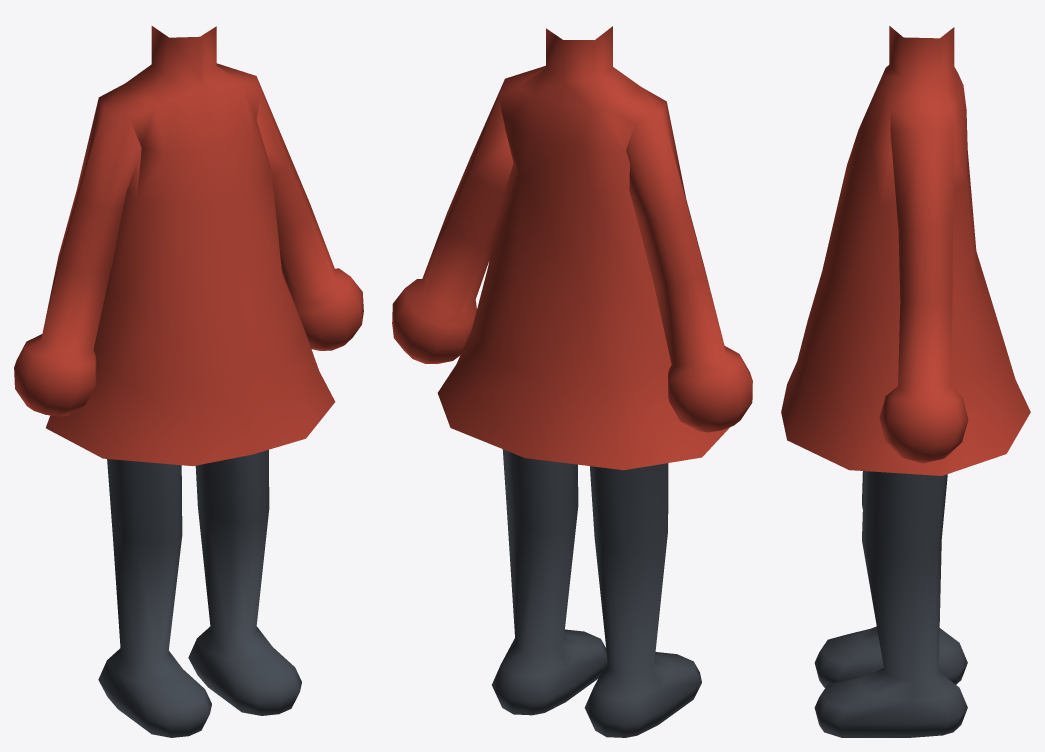
Rendered from Female1.gltf.
3 views of the same model, side by side, from view 1: azimuth 30°, elevation 25°; view 2: azimuth 150°, elevation 25°; view 3: azimuth 270°, elevation 25° (orthographic). The views are drawn at different scales.
Visible parts, largest first — view 1: シャツ.001_Mesh_0002.rip_mesh0000.011, ズボン.001_Mesh_0002.rip_mesh0000.001, ズボン.001_Mesh_0002.rip_mesh0000.010; view 2: シャツ.001_Mesh_0002.rip_mesh0000.011, ズボン.001_Mesh_0002.rip_mesh0000.001, ズボン.001_Mesh_0002.rip_mesh0000.010; view 3: シャツ.001_Mesh_0002.rip_mesh0000.011, ズボン.001_Mesh_0002.rip_mesh0000.010, ズボン.001_Mesh_0002.rip_mesh0000.001.
Boxes of the visible parts, x1,y1,x2,y2 form: シャツ.001_Mesh_0002.rip_mesh0000.011: (14,26,363,466); ズボン.001_Mesh_0002.rip_mesh0000.001: (98,459,211,737); ズボン.001_Mesh_0002.rip_mesh0000.010: (188,450,301,715); シャツ.001_Mesh_0002.rip_mesh0000.011: (392,26,752,470); ズボン.001_Mesh_0002.rip_mesh0000.001: (584,463,701,737); ズボン.001_Mesh_0002.rip_mesh0000.010: (492,449,607,715); シャツ.001_Mesh_0002.rip_mesh0000.011: (781,26,1030,475); ズボン.001_Mesh_0002.rip_mesh0000.010: (814,471,967,737); ズボン.001_Mesh_0002.rip_mesh0000.001: (814,471,967,687).
Bounding box in the file's own units: 0.6651 × 1.25 × 0.4175.
Materials: 2 (2 with a texture image).
